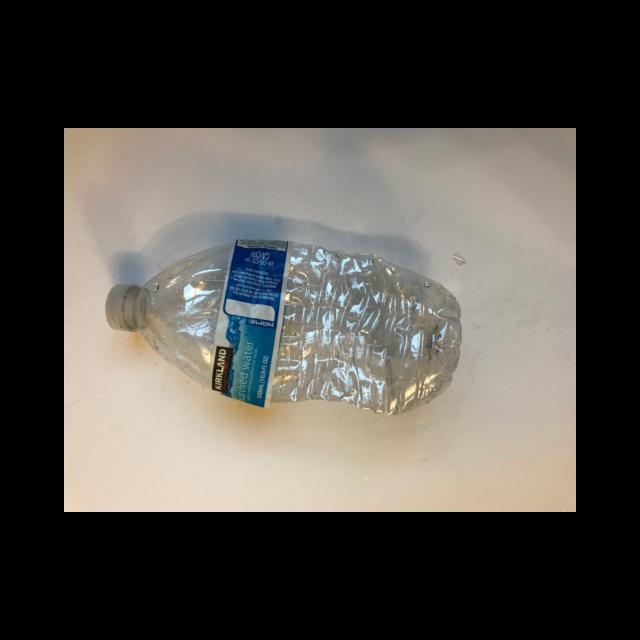plastic: (104, 239, 460, 416), (208, 239, 289, 409), (104, 284, 141, 330)
